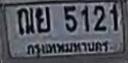1: (109, 4, 117, 30), (80, 5, 88, 31)
2: (93, 5, 105, 30)
5: (63, 5, 76, 31)
A19: (16, 7, 34, 34)
A34: (35, 6, 49, 32)
BKK: (24, 39, 110, 59)
